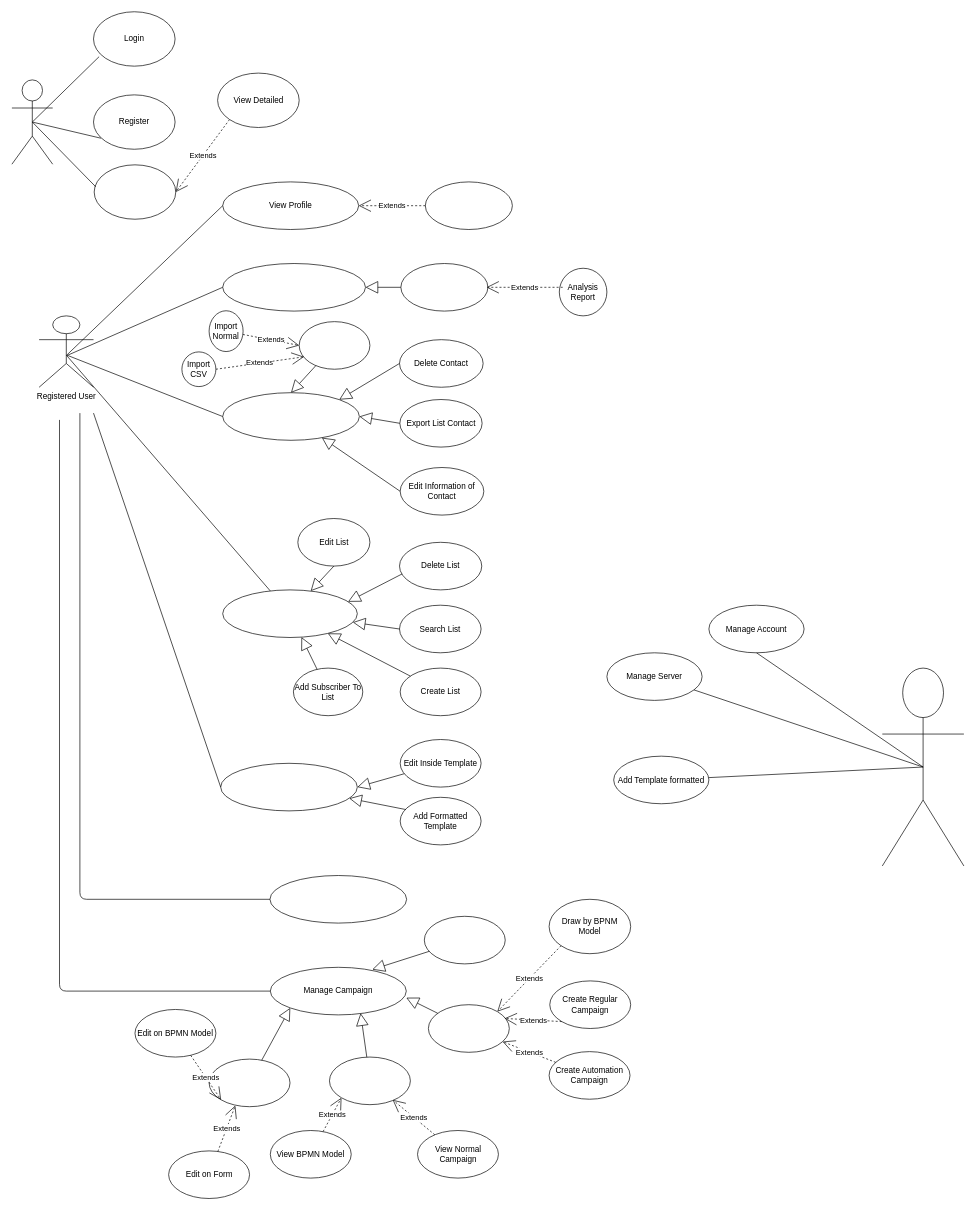
Some shapes in this 976 by 1211 pixel diagram are drawn without their labels. The shapes that lost their labels are listed below. From the top down, each one's box as (x1, y1, x2, y2) in pixels, then its label:
(11, 79, 53, 164): Guest
(94, 164, 176, 219): Search
(425, 181, 512, 230): Edit Profile
(222, 263, 366, 311): Manage Report
(400, 263, 488, 311): View Report
(299, 321, 370, 369): Add Contact
(222, 392, 359, 440): Manage Contact
(222, 589, 357, 638): Manage List
(882, 667, 964, 866): Admin System
(220, 763, 357, 811): Manage Templates
(269, 875, 407, 923): Logout
(424, 916, 505, 964): Delete Campaign
(428, 1004, 509, 1052): Create Campaign
(208, 1058, 290, 1107): Edit Campaign
(329, 1056, 410, 1105): View Campaign
